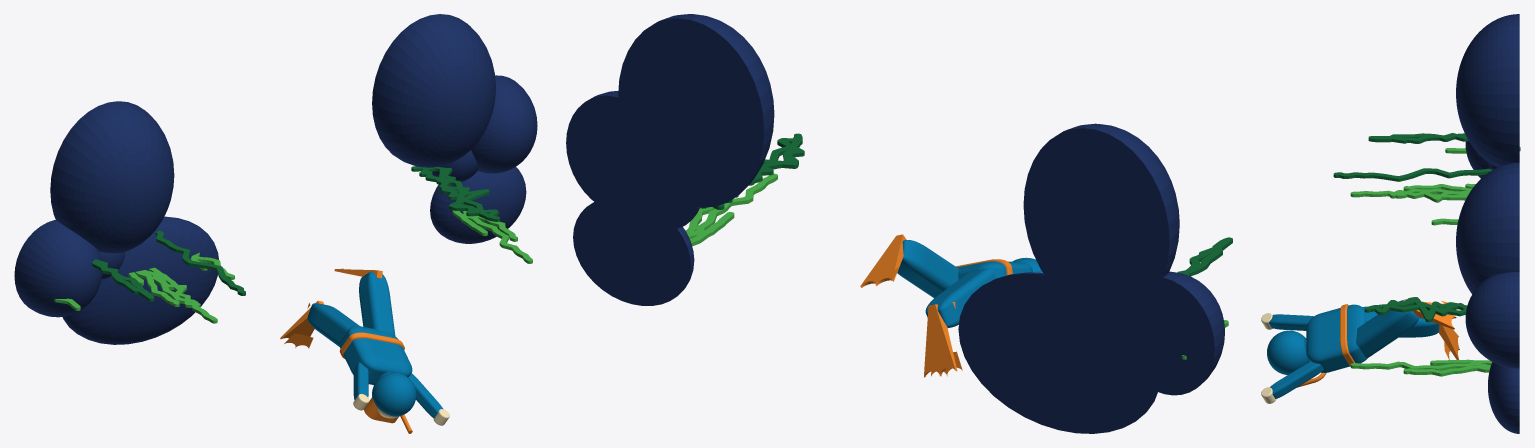
Rendered from tinker.obj.
The picture shows the model from 3 angles, left to right: view 1: azimuth 30°, elevation 25°; view 2: azimuth 150°, elevation 25°; view 3: azimuth 270°, elevation 25°; orthographic projection. The views are drawn at different scales.
Parts seen in each view (by area): view 1: group_0_1650274, group_0_30377, group_0_1206582, group_0_4634441, group_0_16089887; view 2: group_0_1650274, group_0_30377, group_0_16089887, group_0_1206582, group_0_4634441; view 3: group_0_1650274, group_0_30377, group_0_4634441, group_0_1206582, group_0_16089887, group_0_16311991.
Boxes of the visible parts, bbox=[...] form: group_0_1650274: bbox=[14, 14, 537, 344]; group_0_30377: bbox=[307, 271, 443, 418]; group_0_1206582: bbox=[91, 166, 499, 301]; group_0_4634441: bbox=[54, 210, 532, 323]; group_0_16089887: bbox=[280, 268, 412, 433]; group_0_1650274: bbox=[566, 14, 1224, 433]; group_0_30377: bbox=[897, 240, 1042, 327]; group_0_16089887: bbox=[860, 234, 1012, 377]; group_0_1206582: bbox=[697, 133, 1232, 276]; group_0_4634441: bbox=[685, 173, 1228, 359]; group_0_1650274: bbox=[1456, 14, 1519, 433]; group_0_30377: bbox=[1267, 299, 1439, 398]; group_0_4634441: bbox=[1350, 147, 1520, 376]; group_0_1206582: bbox=[1333, 133, 1492, 322]; group_0_16089887: bbox=[1297, 300, 1459, 387]; group_0_16311991: bbox=[1261, 313, 1309, 403].
Size of the model in its own units: 187 by 102 by 81.47.
